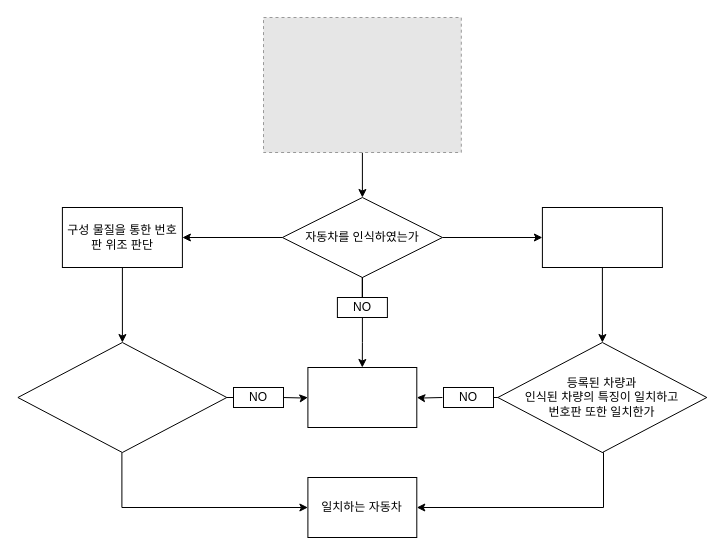
Some shapes in this 724 by 555 pixel diagram are drawn without their labels. Grey dashed boxes stand in for pictures. The centre of each missing label's shape, as x and y in pixels:
"번호판 위치가 철 & 플라스틱 (PET)로 이루어져 있는가" belongs at (122,397).
"자동차가 아님 또는 위조 번호판" belongs at (362,397).
"자동차의 특징을 통한 번호판 위조 판단" belongs at (601,237).
